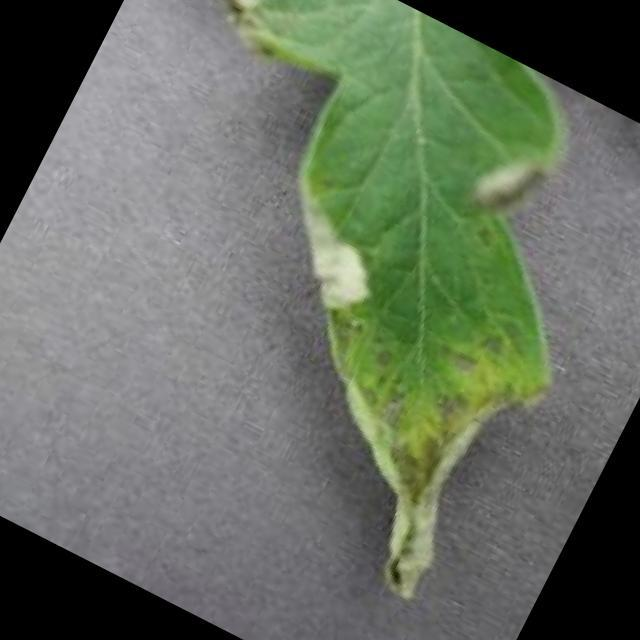Tomato late blight leaf: (16, 0, 640, 622)
